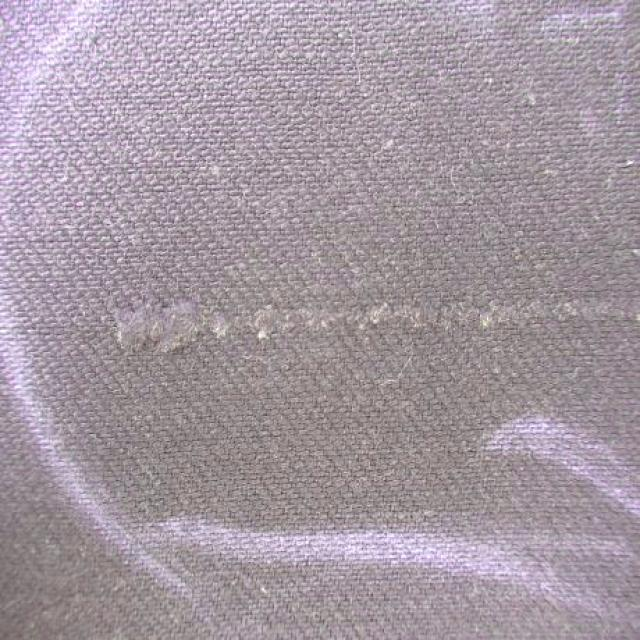Stain: (0, 1, 152, 575), (155, 515, 638, 631), (481, 410, 640, 511)
Warp_Weft: (110, 295, 640, 346)
